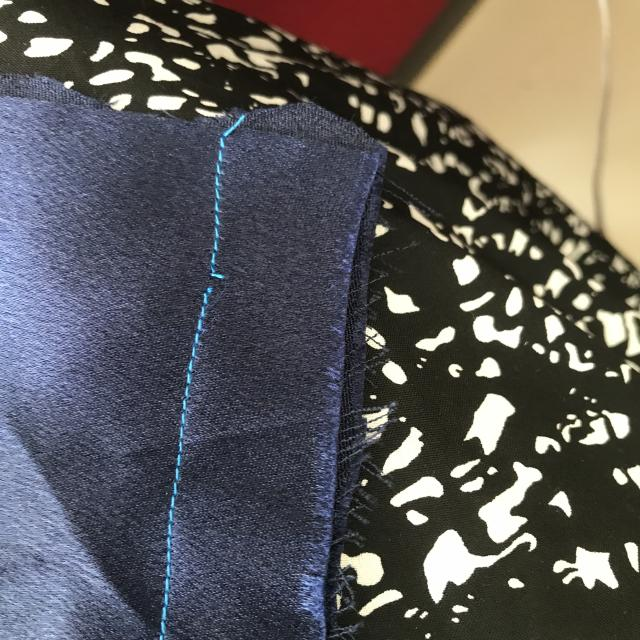broken: (192, 244, 245, 330)
good: (174, 366, 205, 480), (161, 500, 187, 600)
